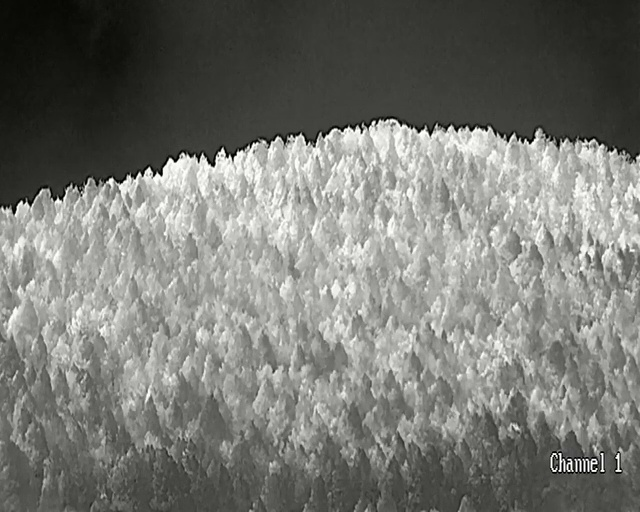uav: (257, 137, 262, 140)
